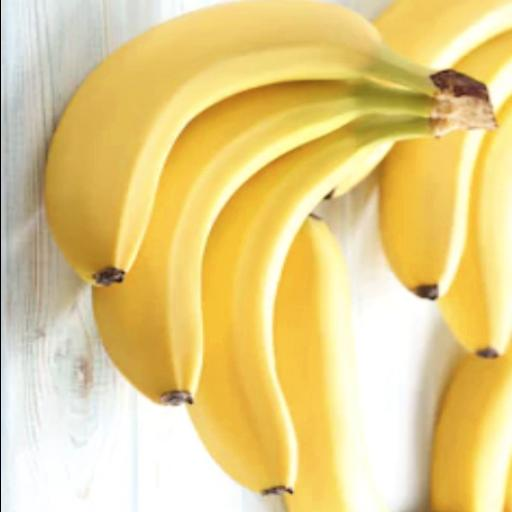banana: (45, 0, 490, 284), (93, 82, 430, 405), (190, 118, 430, 493), (273, 216, 385, 511), (438, 98, 511, 358), (380, 131, 482, 299), (429, 342, 511, 511), (373, 0, 511, 68), (504, 444, 511, 511)
